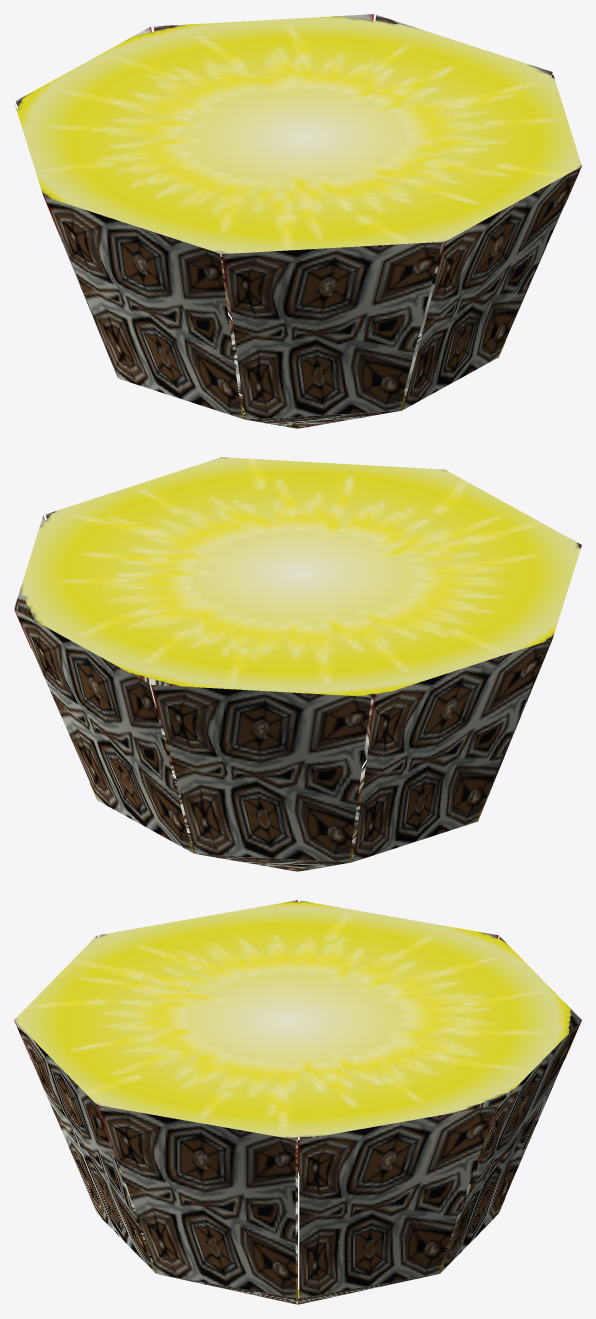
The model's file is Pine2.FBX.
3 views of the same model, one above another, from view 1: azimuth 30°, elevation 25°; view 2: azimuth 150°, elevation 25°; view 3: azimuth 270°, elevation 25° (orthographic). The views are drawn at different scales.
Visible parts, largest first — view 1: Pine2; view 2: Pine2; view 3: Pine2.
Part boxes in pixels (<box>): Pine2: <box>14,14,581,428</box>; Pine2: <box>14,457,581,871</box>; Pine2: <box>14,900,581,1304</box>.
Bounding box in the file's own units: 13.41 × 7.41 × 13.41.
